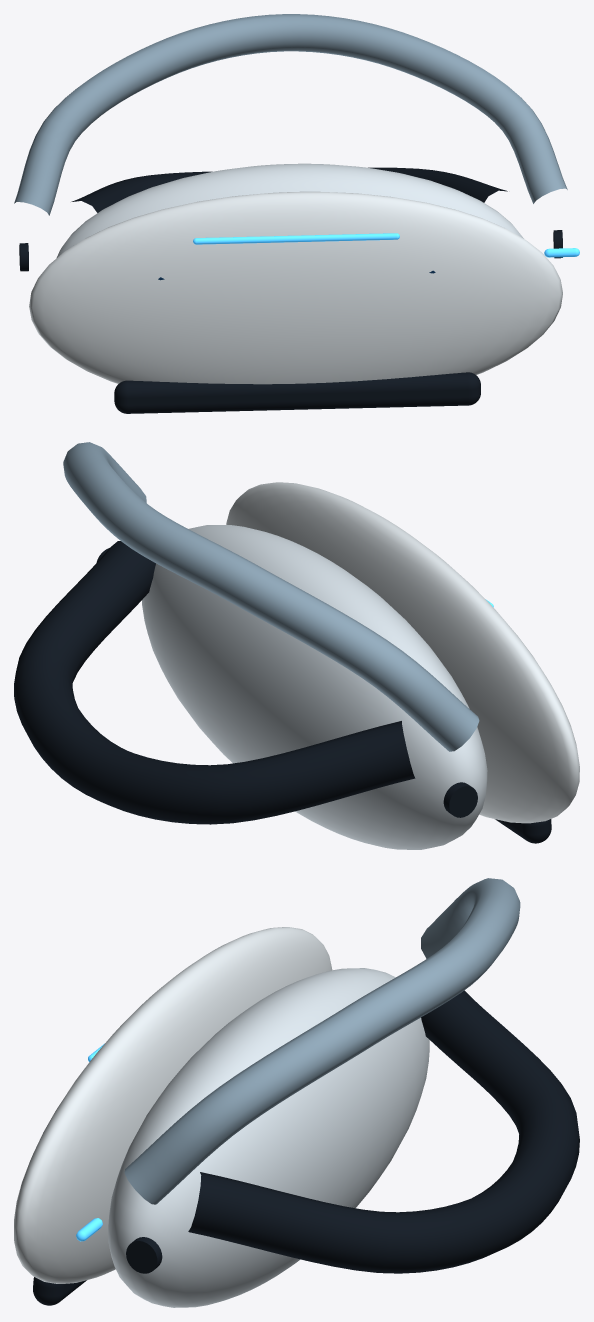
File: headset-miniverso.glb
The picture shows the model from 3 angles, top to bottom: view 1: azimuth 30°, elevation 25°; view 2: azimuth 150°, elevation 25°; view 3: azimuth 270°, elevation 25°; orthographic projection. The views are drawn at different scales.
Bounding box in the file's own units: 2.85 × 1.69 × 2.4.
